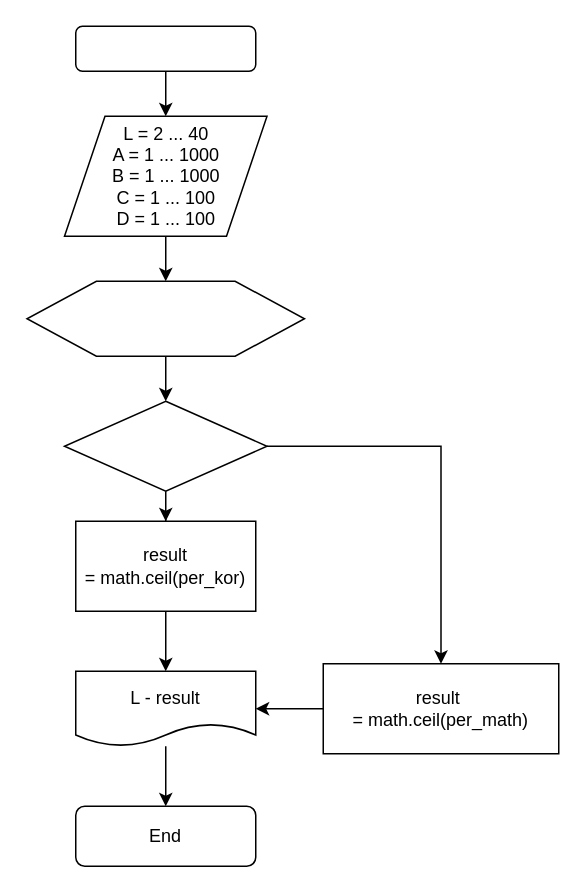
This 585x893 diagram has some shape labels left out. Each missing label, with the box of its shape:
per_kor = A / C per_math = B / D result: (26, 280, 304, 356)
per_kor >= per_math: (63, 400, 267, 491)
Start: (74, 25, 256, 71)
